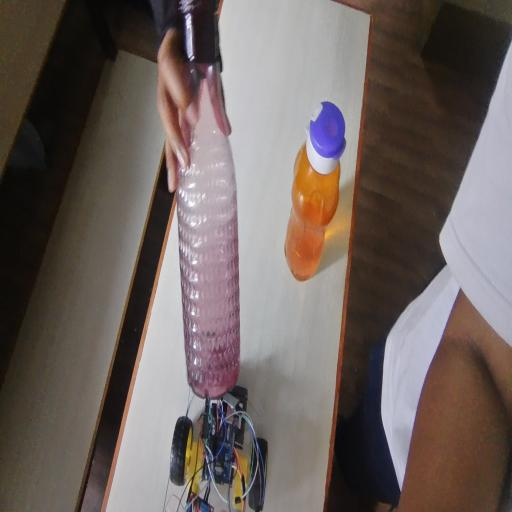Bottle: (175, 12, 265, 379), (301, 78, 342, 310)
car: (169, 382, 276, 505)
